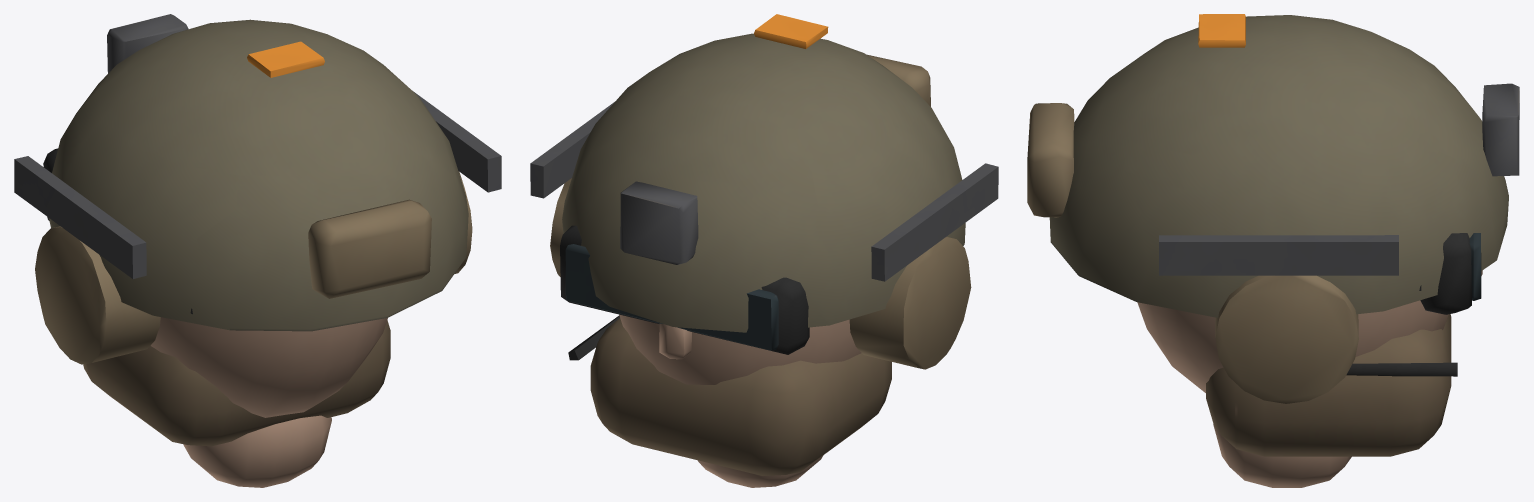
Rendered from SM_OperatorAHead_LOD1.fbx.
The picture shows the model from 3 angles, left to right: view 1: azimuth 30°, elevation 25°; view 2: azimuth 150°, elevation 25°; view 3: azimuth 270°, elevation 25°; orthographic projection. The views are drawn at different scales.
Parts seen in each view (by area): view 1: SM_OperatorAHead_LOD1; view 2: SM_OperatorAHead_LOD1; view 3: SM_OperatorAHead_LOD1.
Boxes of the visible parts, bbox=[...] form: SM_OperatorAHead_LOD1: bbox=[14, 14, 501, 487]; SM_OperatorAHead_LOD1: bbox=[530, 14, 998, 487]; SM_OperatorAHead_LOD1: bbox=[1027, 14, 1519, 487].
Bounding box in the file's own units: 0.2692 × 0.3067 × 0.3032.
Materials: 1 (1 with a texture image).
